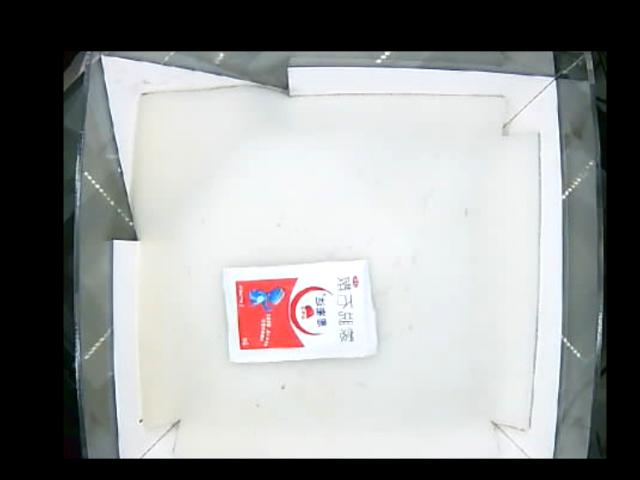Medicine: (224, 260, 381, 363)
